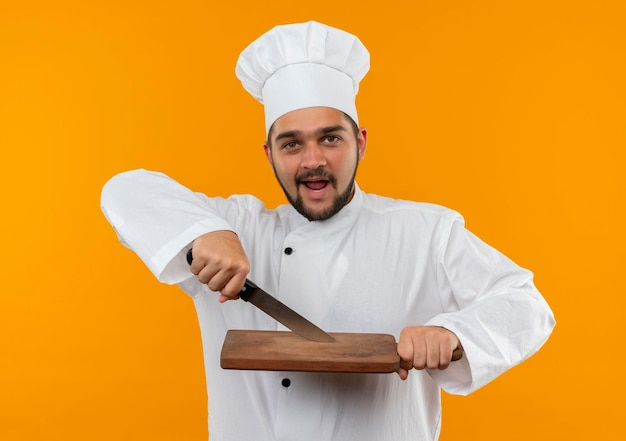knife: (239, 276, 336, 344)
